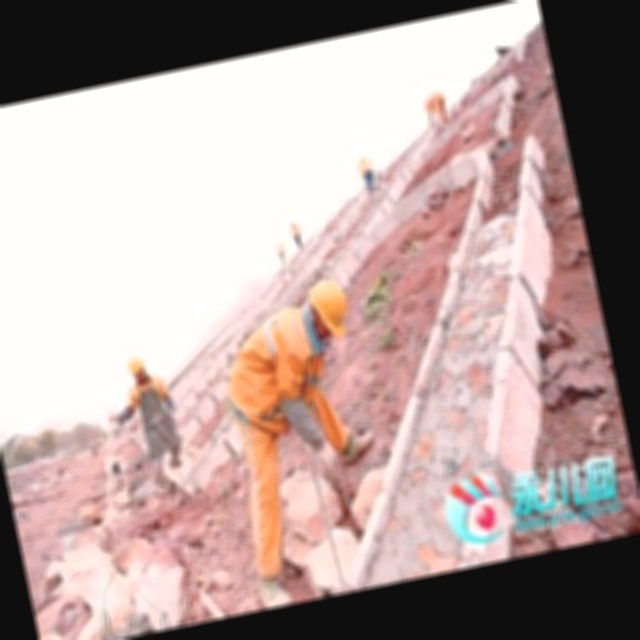Con_Casco: (299, 274, 354, 344)
